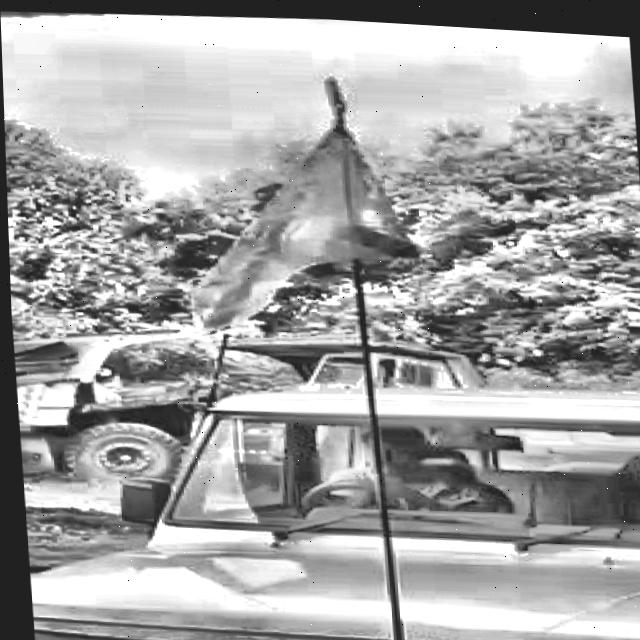light_vehicle: (11, 346, 640, 640)
